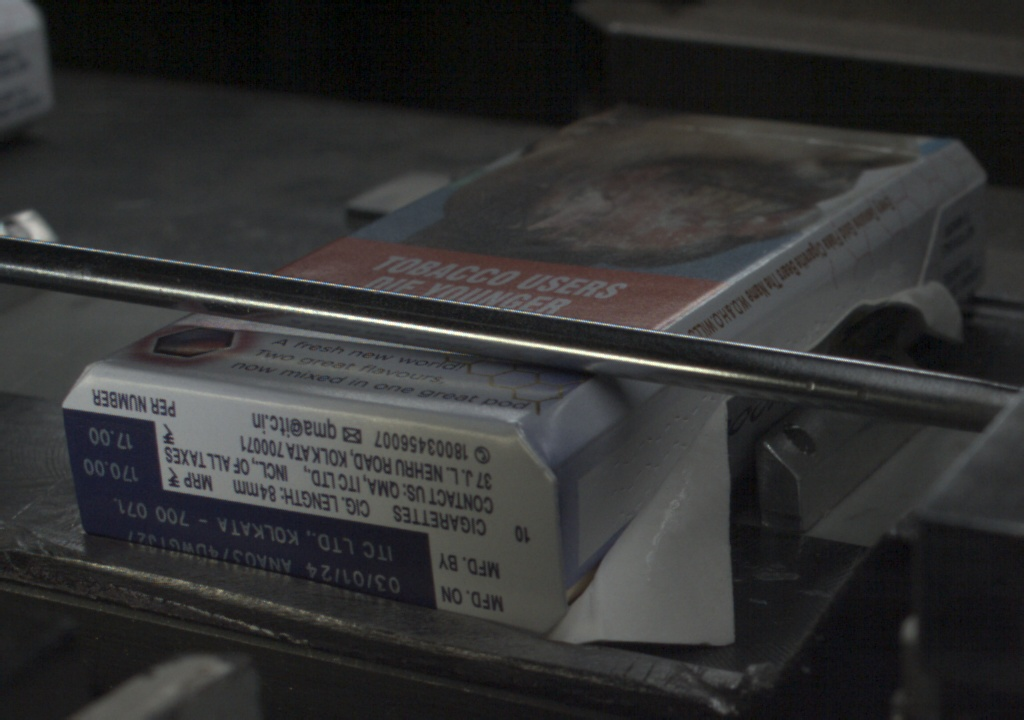g_bottom: (63, 366, 548, 647)
g_label: (78, 490, 439, 611)
g_miter: (935, 166, 993, 210)
ng_lmiter: (568, 411, 721, 620), (866, 249, 962, 342)
price: (71, 419, 160, 488)
